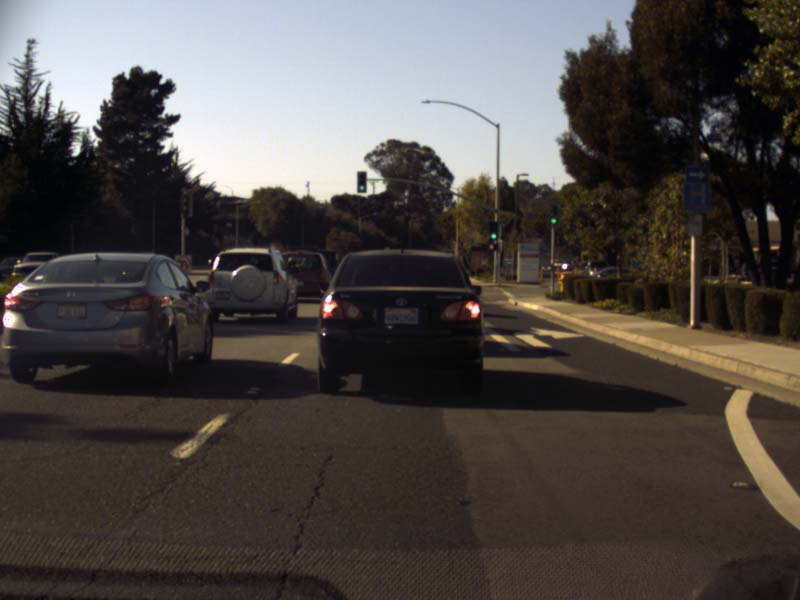Green: (356, 171, 365, 192), (549, 205, 557, 224), (489, 220, 496, 240)
